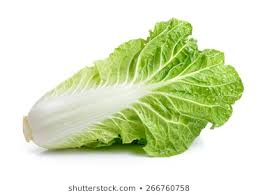lettuce: (30, 38, 224, 153)
